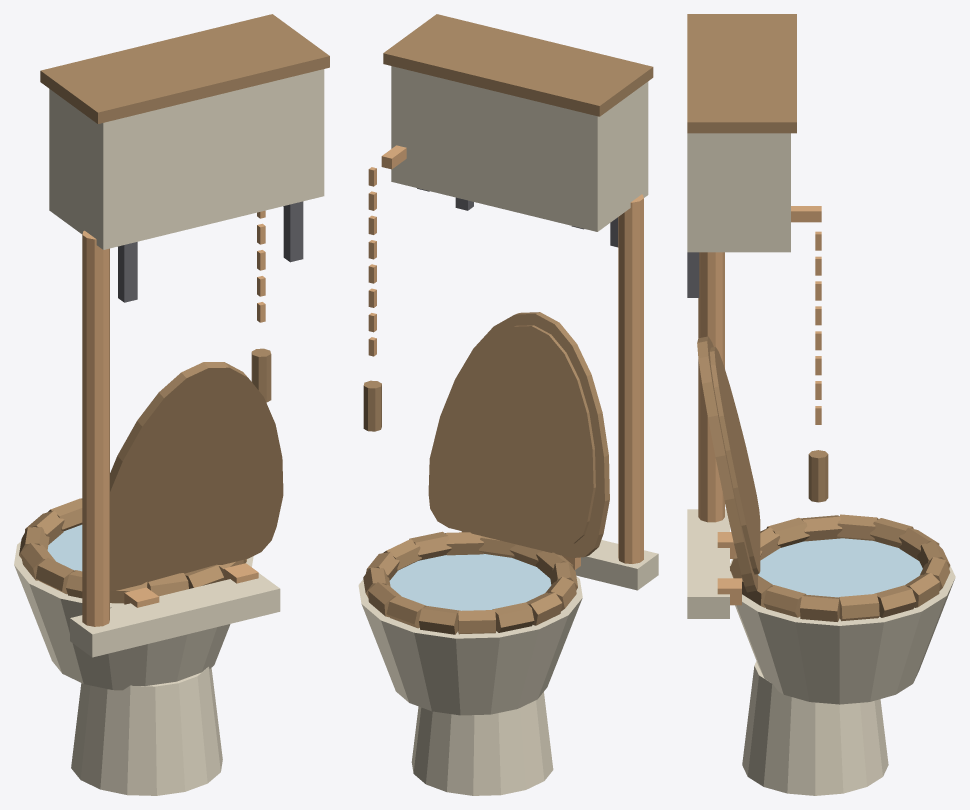
Rendered from toilet_bowl.glb.
3 renders of one model, left to right at view 1: azimuth 30°, elevation 25°; view 2: azimuth 150°, elevation 25°; view 3: azimuth 270°, elevation 25°, orthographic. The views are drawn at different scales.
Visible parts, largest first — view 1: ToiletBowl; view 2: ToiletBowl; view 3: ToiletBowl.
Boxes of the visible parts, left/top/right/bottom form: ToiletBowl: left=14, top=14, right=329, bottom=795; ToiletBowl: left=358, top=14, right=658, bottom=795; ToiletBowl: left=687, top=14, right=955, bottom=795.
Size of the model in its own units: 0.446 by 1.26 by 0.44.
